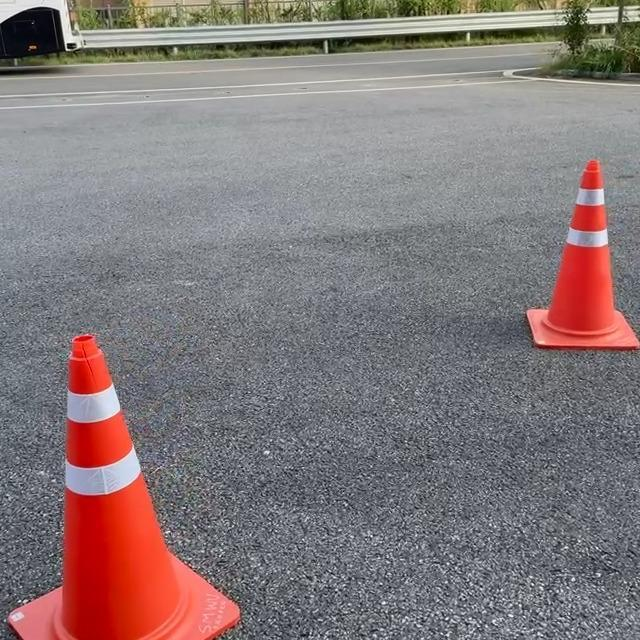fallen_object: (7, 313, 196, 640), (496, 170, 640, 407)
